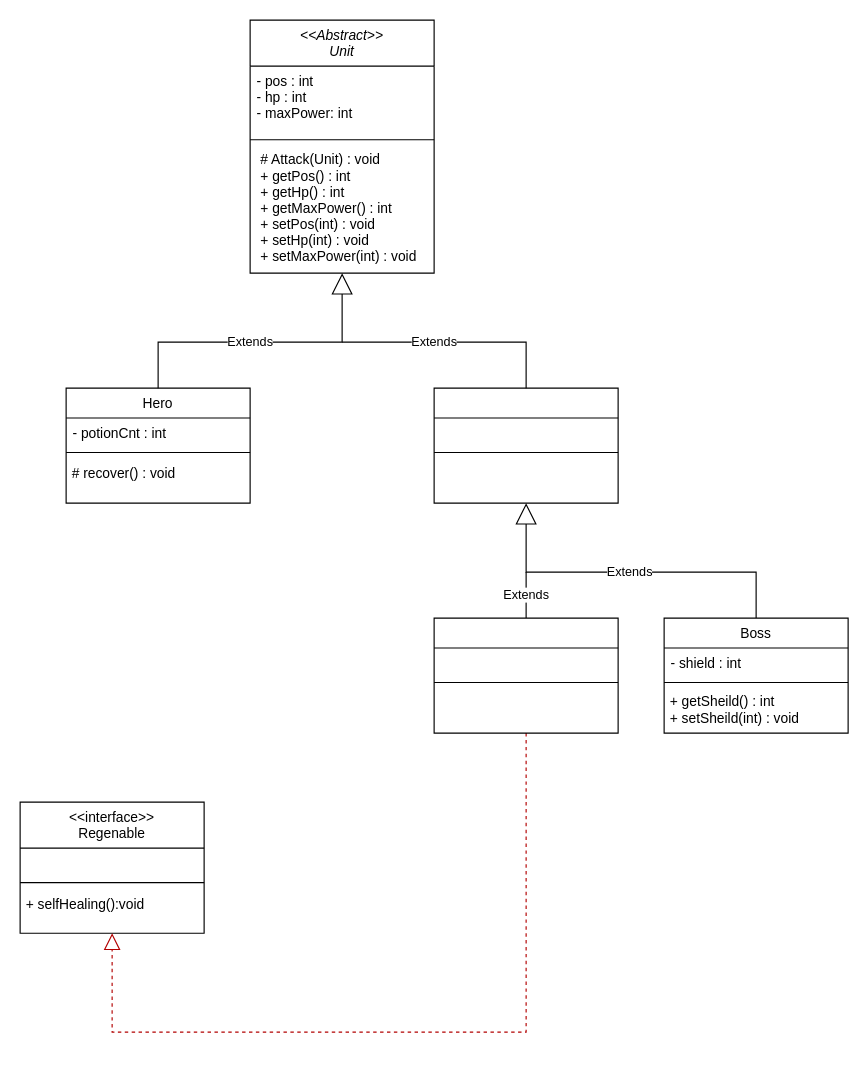
Image size: 868x1068. Some labels were removed from this diagram. Here are the shapes that lost their labels. From the top down, the centre of each, then its label:
(525,445): Zombie
(525,675): Subordinate
